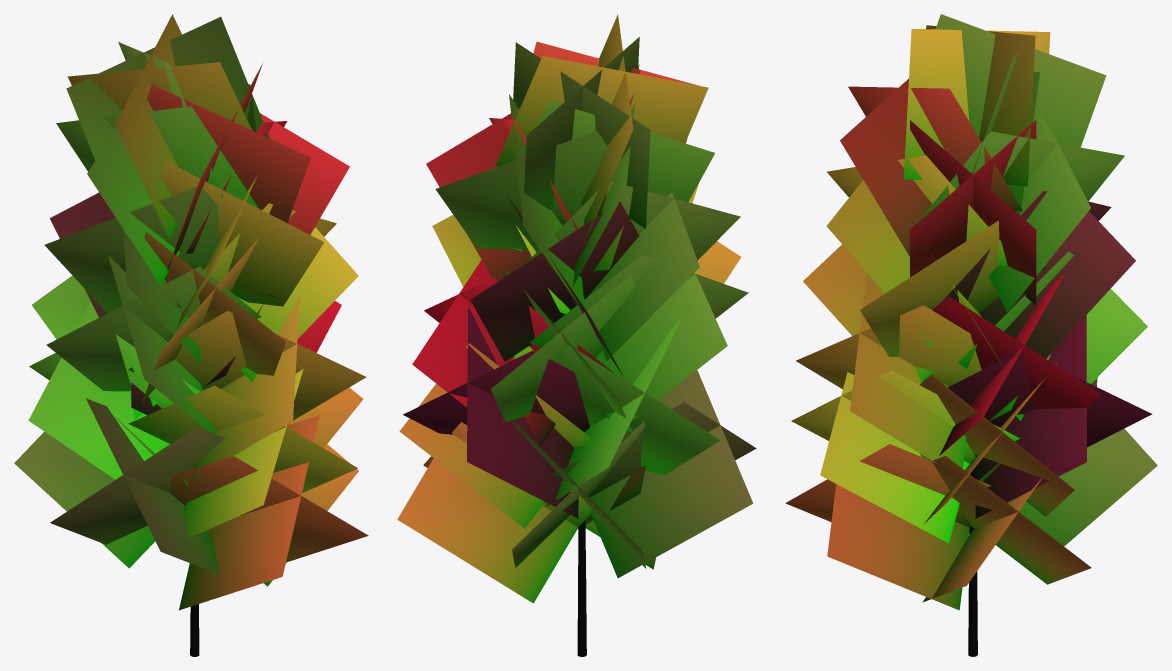
The model's file is Tree_2.fbx.
3 views of the same model, side by side, from view 1: azimuth 30°, elevation 25°; view 2: azimuth 150°, elevation 25°; view 3: azimuth 270°, elevation 25° (orthographic).
Parts seen in each view (by area): view 1: Tree_2; view 2: Tree_2; view 3: Tree_2.
Boxes of the visible parts, x1,y1,x2,y2 form: Tree_2: (14, 14, 368, 656); Tree_2: (397, 14, 756, 656); Tree_2: (785, 14, 1157, 656).
Size of the model in its own units: 424 by 782 by 424.
